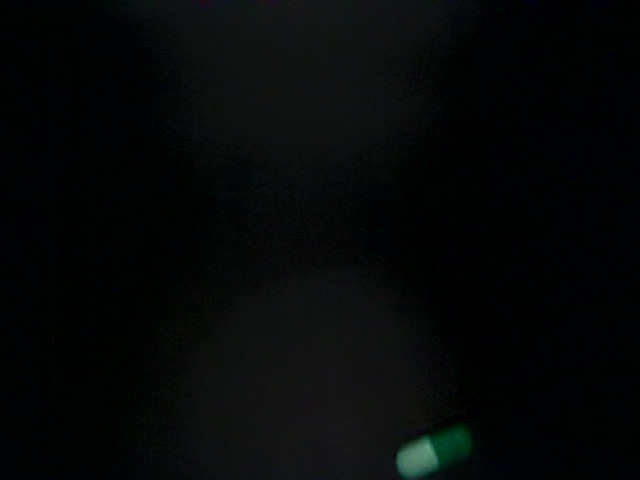YHLJ: (223, 161, 306, 238)
